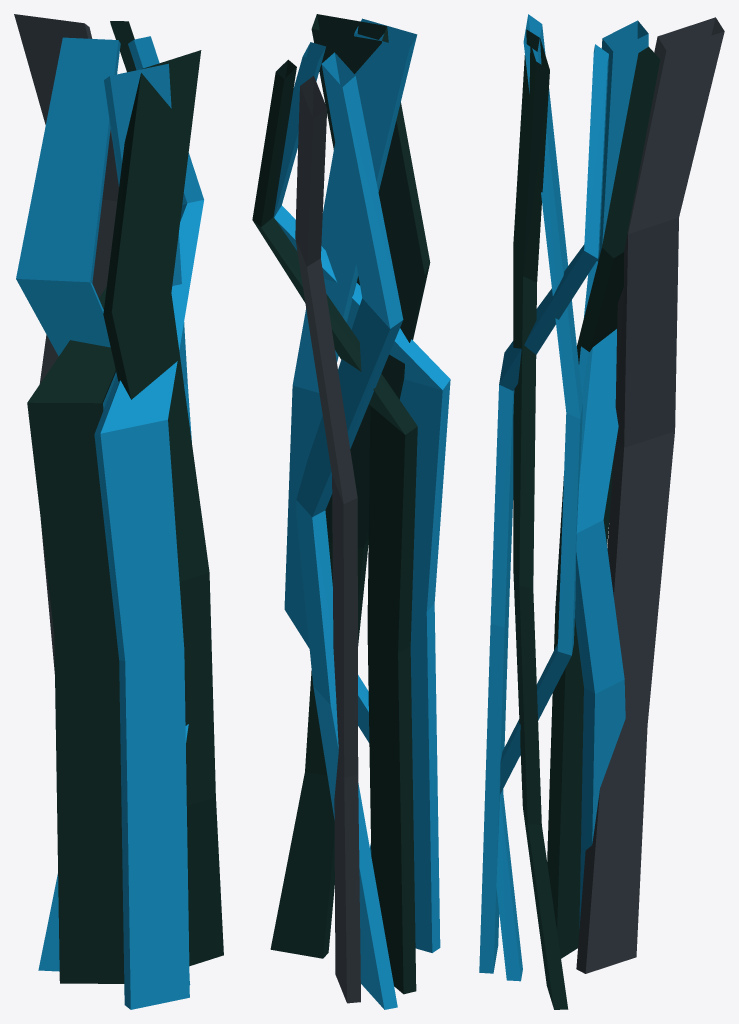
The model's file is teslaClean1.glb.
The picture shows the model from 3 angles, left to right: view 1: azimuth 30°, elevation 25°; view 2: azimuth 150°, elevation 25°; view 3: azimuth 270°, elevation 25°; orthographic projection.
Parts seen in each view (by area): view 1: tesla6, tesla2, tesla3, tesla5, tesla4; view 2: tesla6, tesla2, tesla5, tesla4, tesla3; view 3: tesla4, tesla6, tesla5, tesla3, tesla2.
Boxes of the visible parts, bbox=[...] form: tesla6: bbox=[94, 36, 203, 1009]; tesla2: bbox=[27, 21, 136, 983]; tesla3: bbox=[103, 50, 223, 966]; tesla5: bbox=[16, 37, 120, 971]; tesla4: bbox=[14, 14, 118, 673]; tesla6: bbox=[273, 18, 450, 952]; tesla2: bbox=[252, 59, 417, 994]; tesla5: bbox=[296, 52, 403, 1009]; tesla4: bbox=[295, 76, 360, 1003]; tesla3: bbox=[270, 14, 430, 958]; tesla4: bbox=[576, 17, 724, 973]; tesla6: bbox=[479, 14, 608, 981]; tesla5: bbox=[575, 20, 648, 928]; tesla3: bbox=[513, 29, 568, 1009]; tesla2: bbox=[547, 46, 660, 958].
Size of the model in its own units: 2.76 by 14.45 by 3.44.
